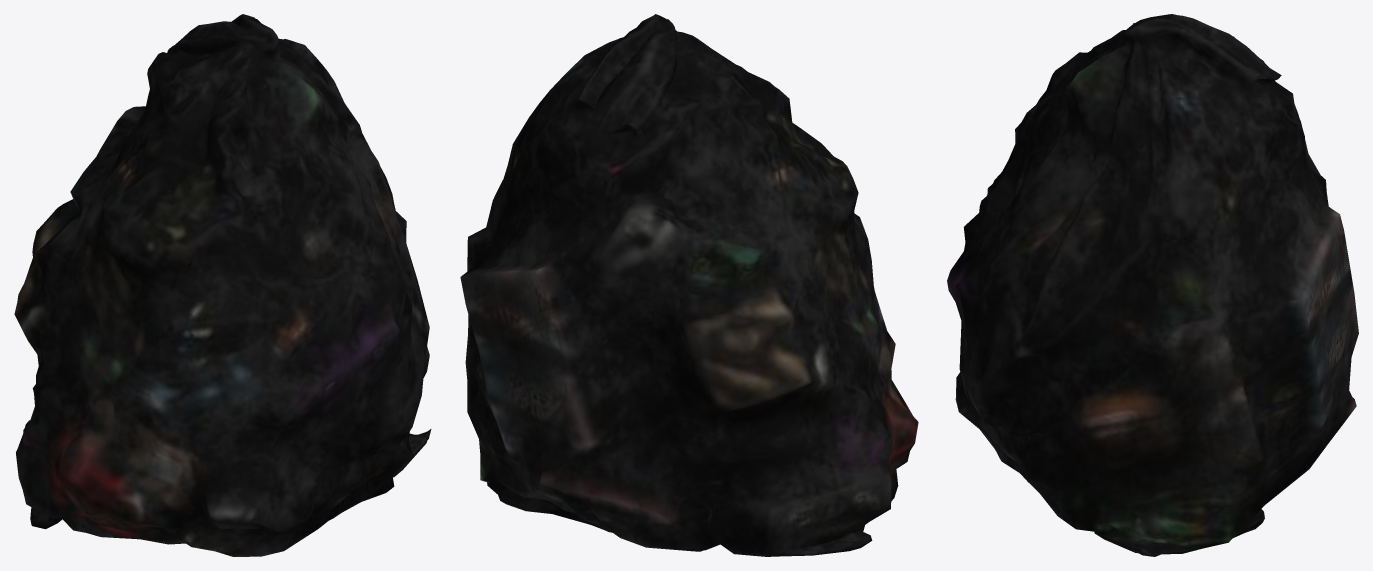
File: trash_bag.glb
3 renders of one model, left to right at view 1: azimuth 30°, elevation 25°; view 2: azimuth 150°, elevation 25°; view 3: azimuth 270°, elevation 25°, orthographic. The views are drawn at different scales.
Visible parts, largest first — view 1: trashbag; view 2: trashbag; view 3: trashbag.
Boxes of the visible parts, x1,y1,x2,y2 form: trashbag: (14,14,431,556); trashbag: (460,14,918,556); trashbag: (947,14,1358,556).
Size of the model in its own units: 0.5281 by 0.575 by 0.4629.
Materials: 1 (1 with a texture image).
